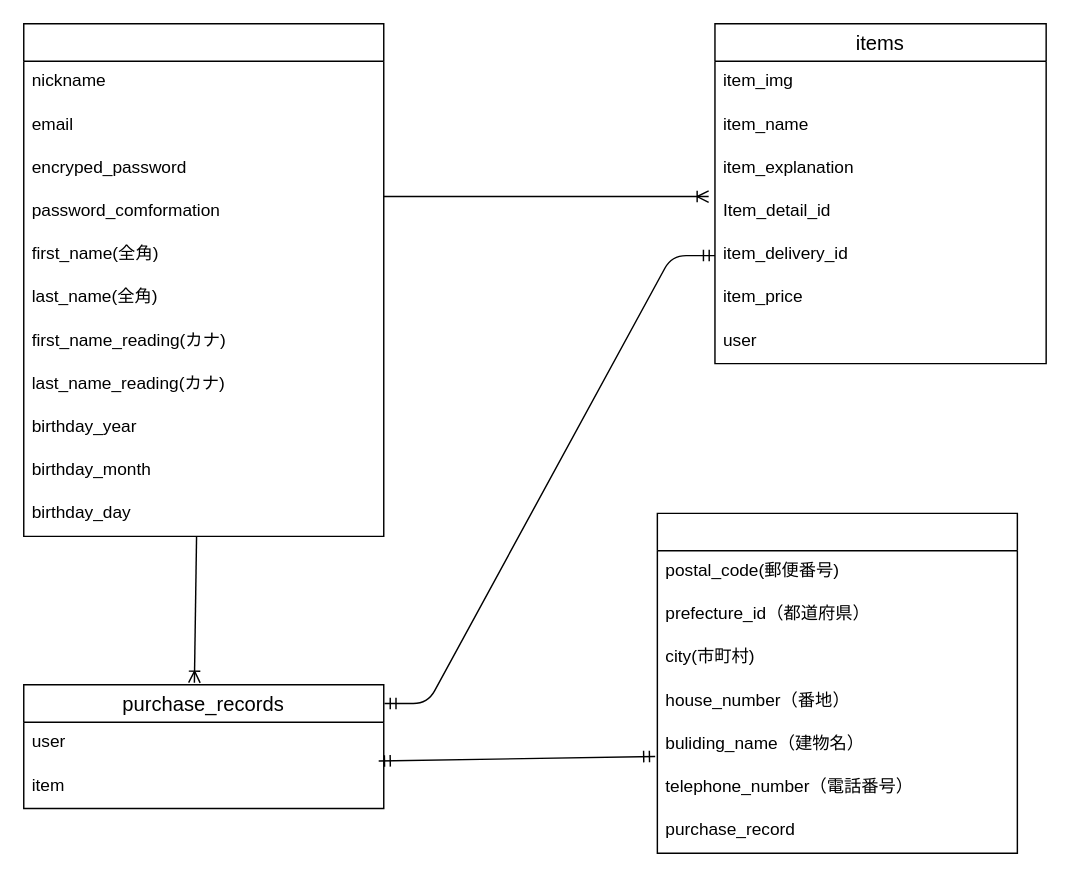
Some shapes in this 1070 by 877 pixel diagram are drawn without their labels. Here are the shapes that lost their labels. From the top down, the box of each, then its label:
(22, 22, 384, 536): users
(656, 512, 1017, 853): shipping_addresses
